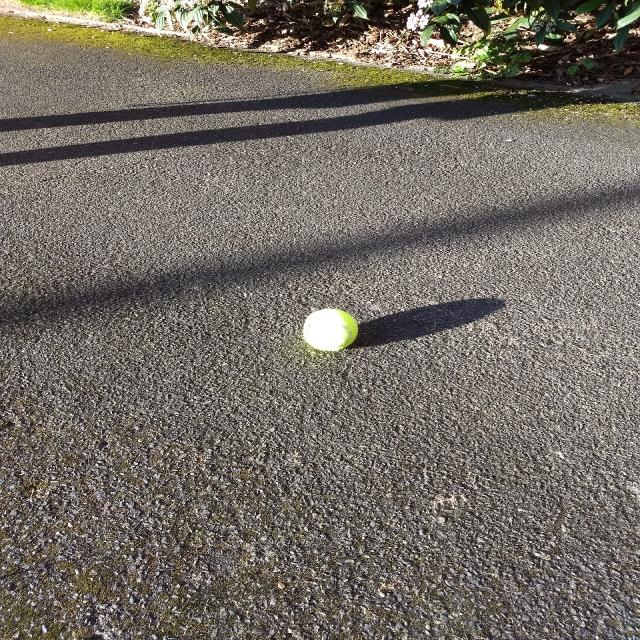Tennis-Ball: (302, 307, 360, 355)
